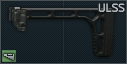MPX PMM ULSS foldable stock: (0, 0, 127, 64)
